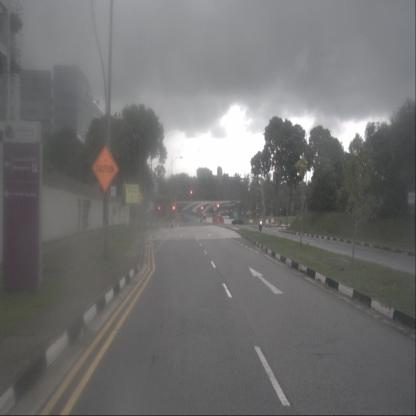movable_object-barrier: (224, 219, 229, 224), (219, 218, 224, 223), (207, 217, 212, 222), (230, 218, 234, 224), (249, 219, 253, 224), (212, 218, 217, 222), (268, 219, 272, 223), (253, 220, 257, 224), (266, 219, 269, 224), (271, 218, 274, 223), (273, 217, 276, 222)
vehicle-car: (231, 216, 244, 225)
vehicle-motorcycle: (258, 216, 263, 232)
